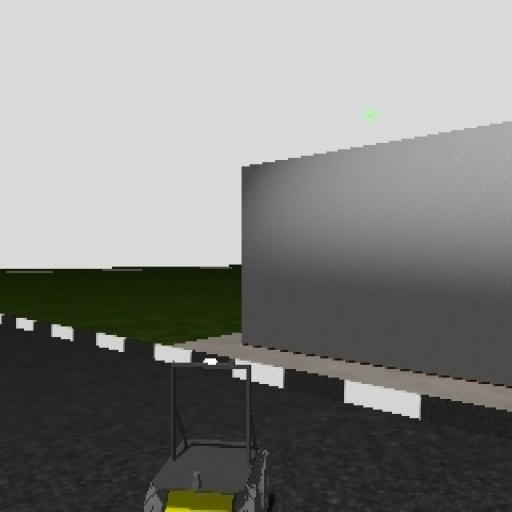huskya200: (152, 355, 271, 512)
